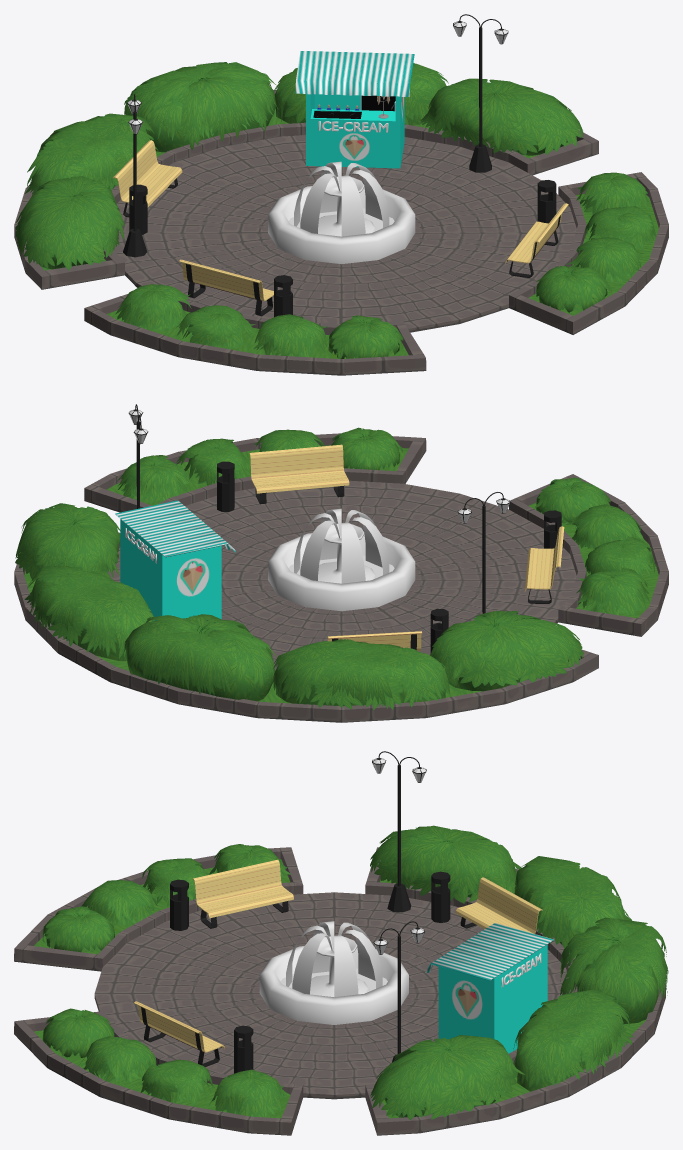
File: square_export.fbx
The picture shows the model from 3 angles, top to bottom: view 1: azimuth 30°, elevation 25°; view 2: azimuth 150°, elevation 25°; view 3: azimuth 270°, elevation 25°; orthographic projection.
Visible parts, largest first — view 1: square, flower_bed, flower_bed.002, flower_bed.004, flower_bed.001, fountain, shop, flower_bed.005, shop_roof, fountain_water.001, flower_bed.006, bush.005 (+15 smaller); view 2: square, flower_bed, flower_bed.002, flower_bed.005, flower_bed.001, flower_bed.006, fountain, shop, flower_bed.004, fountain_water.001, bench.002, shop_roof (+15 smaller); view 3: square, flower_bed, flower_bed.004, flower_bed.006, flower_bed.002, flower_bed.001, shop, fountain, flower_bed.005, fountain_water.001, bench, shop_roof (+15 smaller).
Boxes of the visible parts, <box> form: square: <box>113,135,576,332</box>; flower_bed: <box>14,90,668,375</box>; flower_bed.002: <box>124,62,278,152</box>; flower_bed.004: <box>421,78,583,155</box>; flower_bed.001: <box>15,176,124,270</box>; fountain: <box>268,176,415,264</box>; shop: <box>306,94,404,168</box>; flower_bed.005: <box>25,113,158,194</box>; shop_roof: <box>295,51,414,96</box>; fountain_water.001: <box>294,161,389,236</box>; flower_bed.006: <box>274,63,448,125</box>; bush.005: <box>535,266,611,312</box>; square: <box>107,480,576,667</box>; flower_bed: <box>14,433,668,722</box>; flower_bed.002: <box>124,614,276,701</box>; flower_bed.005: <box>273,639,450,709</box>; flower_bed.001: <box>430,610,583,691</box>; flower_bed.006: <box>24,566,155,660</box>; fountain: <box>268,523,415,611</box>; shop: <box>120,519,221,621</box>; flower_bed.004: <box>15,503,120,579</box>; fountain_water.001: <box>294,508,389,583</box>; bench.002: <box>249,444,349,504</box>; shop_roof: <box>115,500,235,557</box>; square: <box>94,892,570,1099</box>; flower_bed: <box>14,847,665,1135</box>; flower_bed.004: <box>370,1035,524,1120</box>; flower_bed.006: <box>513,989,633,1091</box>; flower_bed.002: <box>560,917,668,1024</box>; flower_bed.001: <box>370,825,521,903</box>; shop: <box>438,944,547,1053</box>; fountain: <box>259,936,408,1024</box>; flower_bed.005: <box>514,856,632,948</box>; fountain_water.001: <box>286,921,382,996</box>; bench: <box>192,859,293,928</box>; shop_roof: <box>425,923,553,980</box>.
Bounding box in the file's own units: 1359 × 362 × 1366.
